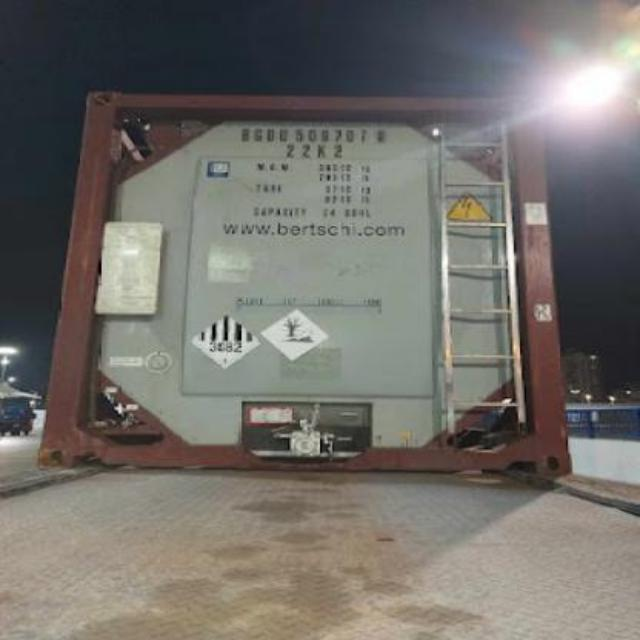0: (344, 130, 356, 142), (308, 128, 318, 142)
5: (294, 126, 304, 142)
7: (358, 128, 368, 142), (334, 130, 342, 142)
8: (378, 130, 386, 142)
9: (320, 128, 328, 142)
B: (266, 126, 278, 144), (242, 128, 252, 140)
G: (254, 126, 264, 142)
U: (280, 129, 290, 141)
